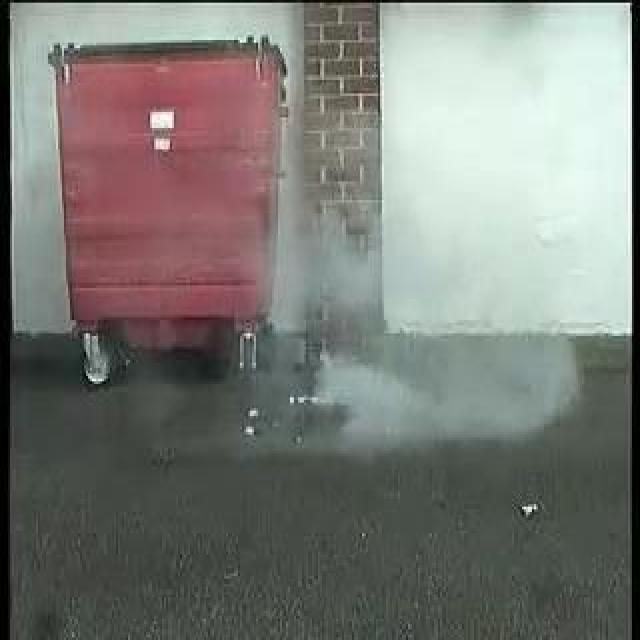Smoke: (276, 202, 438, 442)
